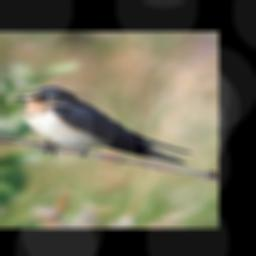Swallow: (11, 84, 194, 168)
